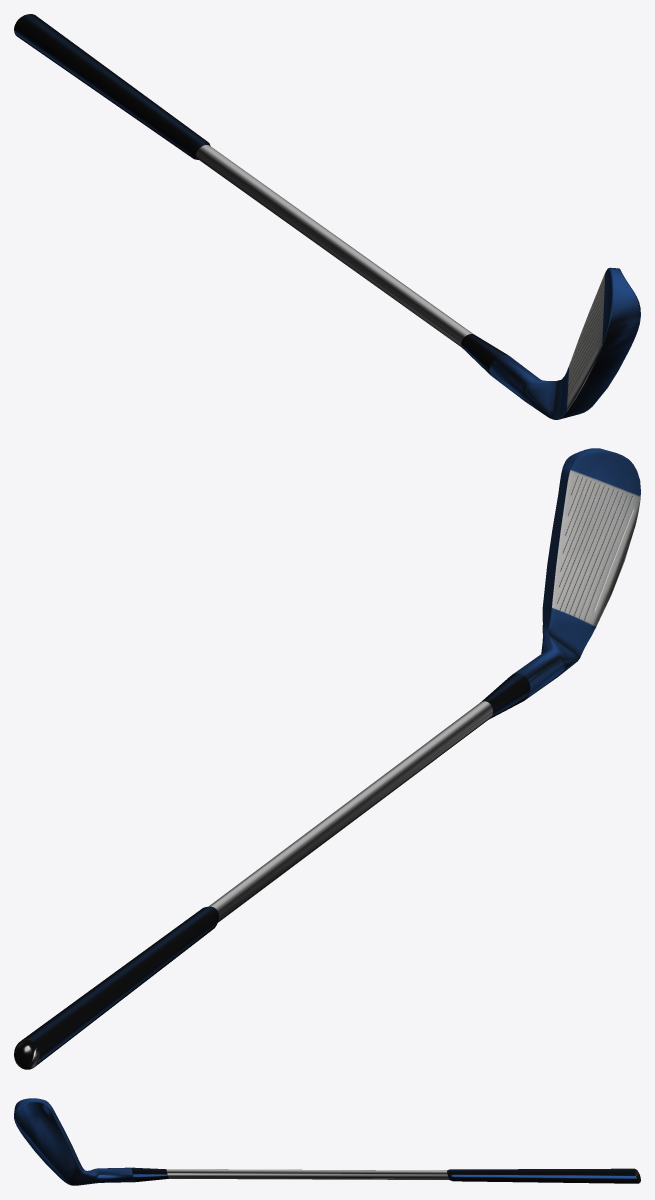
File: Golf_Club.fbx
3 views of the same model, one above another, from view 1: azimuth 30°, elevation 25°; view 2: azimuth 150°, elevation 25°; view 3: azimuth 270°, elevation 25° (orthographic). The views are drawn at different scales.
Parts seen in each view (by area): view 1: Golf_Club; view 2: Golf_Club; view 3: Golf_Club.
Part boxes in pixels (left/top/right/bottom): Golf_Club: left=14, top=14, right=640, bottom=419; Golf_Club: left=14, top=448, right=640, bottom=1069; Golf_Club: left=14, top=1098, right=640, bottom=1185.
Size of the model in its own units: 0.0594 by 0.185 by 1.16.
1 material, 1 textured.
